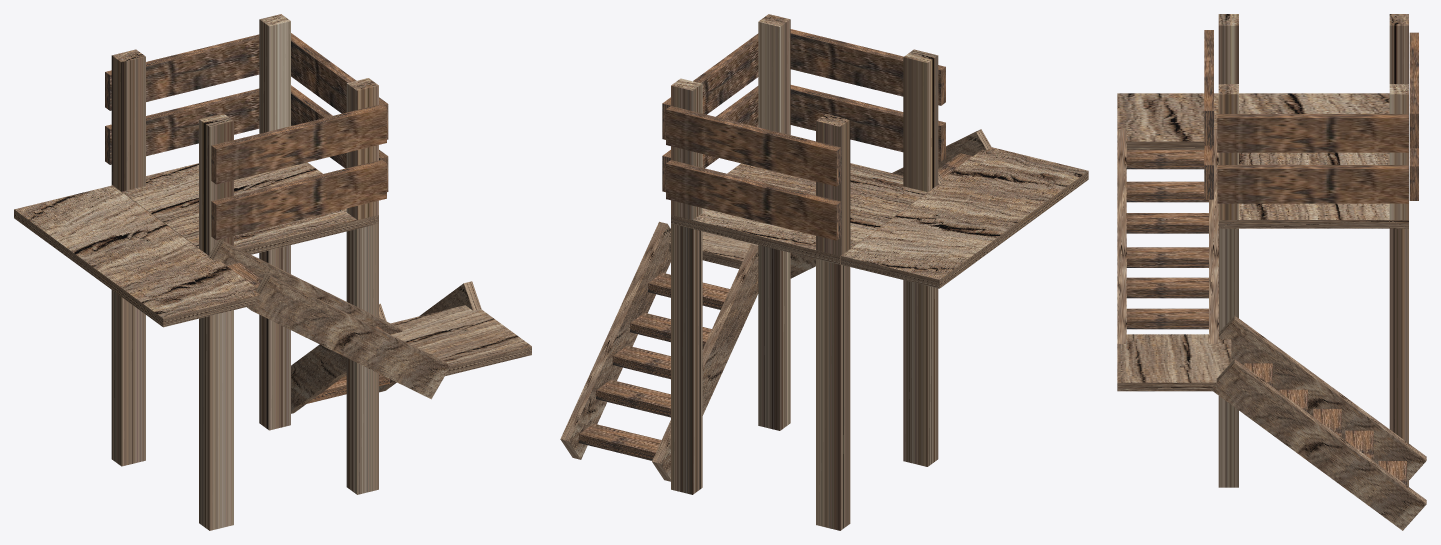
The model's file is Outpost.fbx.
3 views of the same model, side by side, from view 1: azimuth 30°, elevation 25°; view 2: azimuth 150°, elevation 25°; view 3: azimuth 270°, elevation 25° (orthographic). The views are drawn at different scales.
Parts seen in each view (by area): view 1: pCube1, pCube7, pCube5, pCube24, pCube23, pCube6, pCube21, pCube22, pCube20, pCube3, pCube2, pCube19 (+1 smaller); view 2: pCube1, pCube7, pCube22, pCube21, pCube4, pCube24, pCube2, pCube23, pCube20, pCube8, pCube9, pCube6 (+5 smaller); view 3: pCube1, pCube4, pCube7, pCube20, pCube19, pCube2, pCube6, pCube5, pCube14, pCube13, pCube17, pCube16 (+12 smaller).
Part boxes in pixels (x1=…): pCube1: x1=111, y1=14, x2=378, y2=530; pCube7: x1=14, y1=185, x2=259, y2=327; pCube5: x1=247, y1=273, x2=450, y2=399; pCube24: x1=211, y1=104, x2=386, y2=184; pCube23: x1=211, y1=159, x2=386, y2=240; pCube6: x1=391, y1=305, x2=531, y2=375; pCube21: x1=105, y1=34, x2=259, y2=110; pCube22: x1=105, y1=88, x2=259, y2=164; pCube20: x1=291, y1=33, x2=388, y2=139; pCube3: x1=208, y1=239, x2=403, y2=334; pCube2: x1=291, y1=303, x2=386, y2=413; pCube19: x1=291, y1=85, x2=388, y2=191; pCube1: x1=671, y1=14, x2=938, y2=530; pCube7: x1=841, y1=147, x2=1088, y2=288; pCube22: x1=666, y1=160, x2=841, y2=240; pCube21: x1=666, y1=106, x2=841, y2=186; pCube4: x1=560, y1=221, x2=670, y2=459; pCube24: x1=790, y1=29, x2=945, y2=105; pCube2: x1=652, y1=244, x2=758, y2=481; pCube23: x1=790, y1=85, x2=945, y2=161; pCube20: x1=662, y1=33, x2=758, y2=139; pCube8: x1=579, y1=423, x2=661, y2=460; pCube9: x1=596, y1=380, x2=670, y2=417; pCube6: x1=669, y1=231, x2=758, y2=268; pCube1: x1=1218, y1=14, x2=1408, y2=487; pCube4: x1=1210, y1=359, x2=1426, y2=530; pCube7: x1=1117, y1=93, x2=1389, y2=149; pCube20: x1=1217, y1=114, x2=1408, y2=152; pCube19: x1=1217, y1=165, x2=1408, y2=203; pCube2: x1=1218, y1=315, x2=1426, y2=482; pCube6: x1=1117, y1=334, x2=1231, y2=391; pCube5: x1=1117, y1=129, x2=1126, y2=343; pCube14: x1=1126, y1=277, x2=1208, y2=298; pCube13: x1=1126, y1=308, x2=1208, y2=329; pCube17: x1=1126, y1=181, x2=1208, y2=202; pCube16: x1=1126, y1=213, x2=1208, y2=233.
Size of the model in its own units: 21.79 by 22.78 by 16.26.
5 materials, 5 textured.
